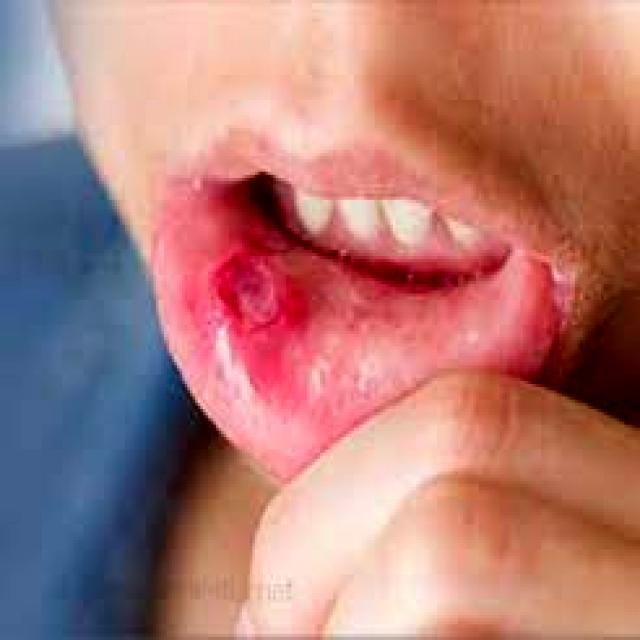ulcer: (213, 254, 290, 339)
